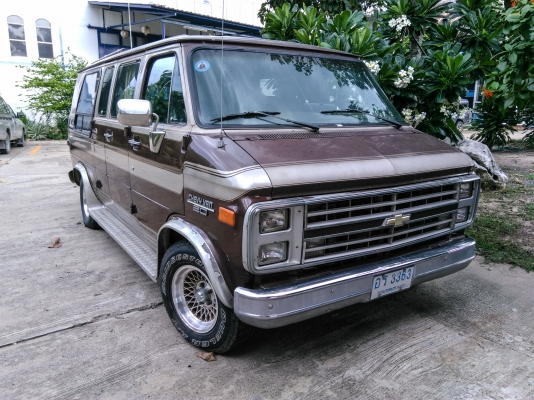van: (65, 34, 483, 356)
